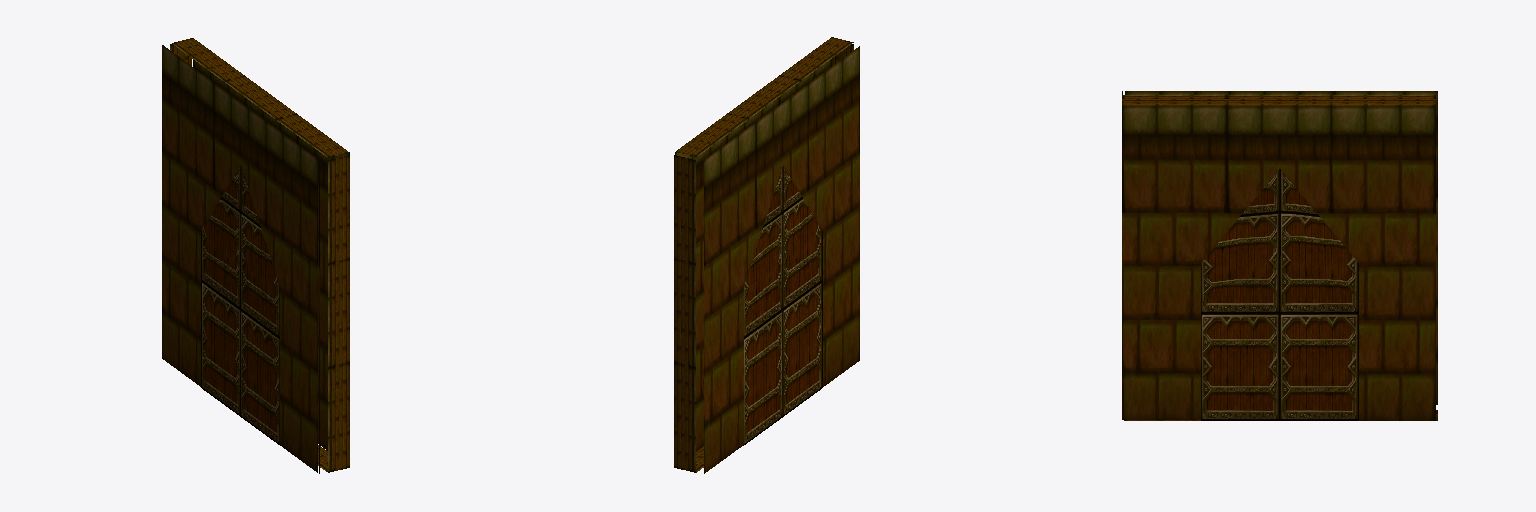
3 renders of one model, left to right at view 1: azimuth 30°, elevation 25°; view 2: azimuth 150°, elevation 25°; view 3: azimuth 270°, elevation 25°, orthographic.
Parts seen in each view (by area): view 1: Contour_Cube, Derniere_partie_Cube.001, partie_haut_Cube.009, seconde_partie_droite_Cube.004, Premiere_partie_droit_Cube.002, premiere_partie_gauch_Cube.010, seconde_partie_gauche_Cube.012, triangle_droit_Cube.007, triangle_gauche_Cube.011; view 2: Contour_Cube, Derniere_partie_Cube.001, partie_haut_Cube.009, seconde_partie_gauche_Cube.012, premiere_partie_gauch_Cube.010, Premiere_partie_droit_Cube.002, seconde_partie_droite_Cube.004, triangle_gauche_Cube.011, triangle_droit_Cube.007; view 3: Contour_Cube, Derniere_partie_Cube.001, partie_haut_Cube.009, seconde_partie_gauche_Cube.012, premiere_partie_gauch_Cube.010, seconde_partie_droite_Cube.004, Premiere_partie_droit_Cube.002, triangle_gauche_Cube.011, triangle_droit_Cube.007.
Boxes of the visible parts, x1,y1,x2,y2 form: Contour_Cube: [162, 38, 349, 473]; Derniere_partie_Cube.001: [202, 252, 279, 444]; partie_haut_Cube.009: [221, 166, 260, 288]; seconde_partie_droite_Cube.004: [201, 199, 220, 269]; Premiere_partie_droit_Cube.002: [201, 261, 220, 322]; premiere_partie_gauch_Cube.010: [261, 291, 279, 366]; seconde_partie_gauche_Cube.012: [261, 229, 279, 325]; triangle_droit_Cube.007: [201, 310, 220, 387]; triangle_gauche_Cube.011: [261, 353, 279, 441]; Contour_Cube: [674, 37, 859, 473]; Derniere_partie_Cube.001: [744, 252, 821, 444]; partie_haut_Cube.009: [763, 166, 802, 288]; seconde_partie_gauche_Cube.012: [803, 199, 822, 269]; premiere_partie_gauch_Cube.010: [803, 261, 822, 322]; Premiere_partie_droit_Cube.002: [744, 291, 762, 366]; seconde_partie_droite_Cube.004: [744, 229, 762, 325]; triangle_gauche_Cube.011: [803, 310, 822, 387]; triangle_droit_Cube.007: [744, 353, 762, 441]; Contour_Cube: [1122, 91, 1437, 420]; Derniere_partie_Cube.001: [1201, 256, 1358, 420]; partie_haut_Cube.009: [1241, 169, 1318, 277]; seconde_partie_gauche_Cube.012: [1201, 216, 1240, 301]; premiere_partie_gauch_Cube.010: [1201, 279, 1240, 341]; seconde_partie_droite_Cube.004: [1319, 216, 1358, 301]; Premiere_partie_droit_Cube.002: [1319, 279, 1358, 341]; triangle_gauche_Cube.011: [1201, 342, 1239, 419]; triangle_droit_Cube.007: [1320, 342, 1358, 419].
Size of the model in its own units: 0.22 by 2.2 by 2.
Materials: 3 (2 with a texture image).